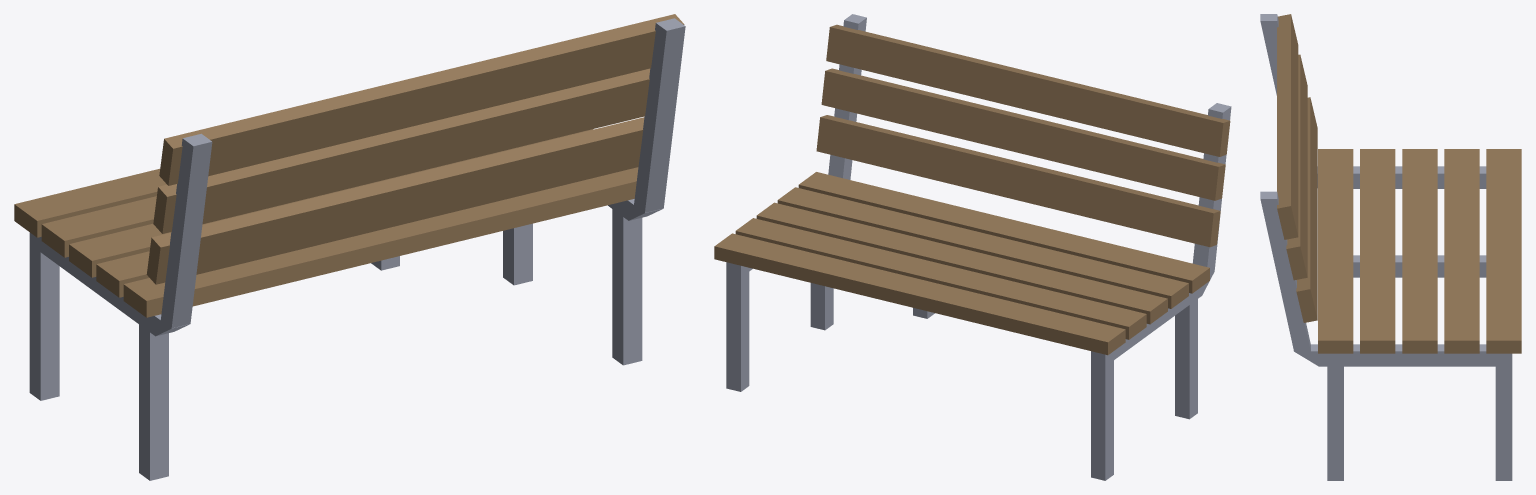
File: bench(joined).fbx
3 renders of one model, left to right at view 1: azimuth 30°, elevation 25°; view 2: azimuth 150°, elevation 25°; view 3: azimuth 270°, elevation 25°, orthographic. The views are drawn at different scales.
Parts seen in each view (by area): view 1: Cube.002; view 2: Cube.002; view 3: Cube.002.
Part boxes in pixels (x1,y1,x2,y2): Cube.002: (14,14,685,480); Cube.002: (714,14,1231,480); Cube.002: (1260,14,1521,480).
Size of the model in its own units: 540 by 370 by 311.
